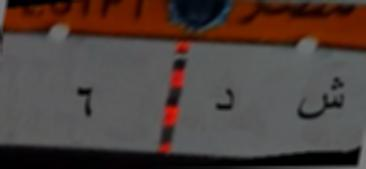6: (72, 76, 101, 122)
daal: (208, 80, 244, 124)
sheen: (289, 70, 352, 136)
